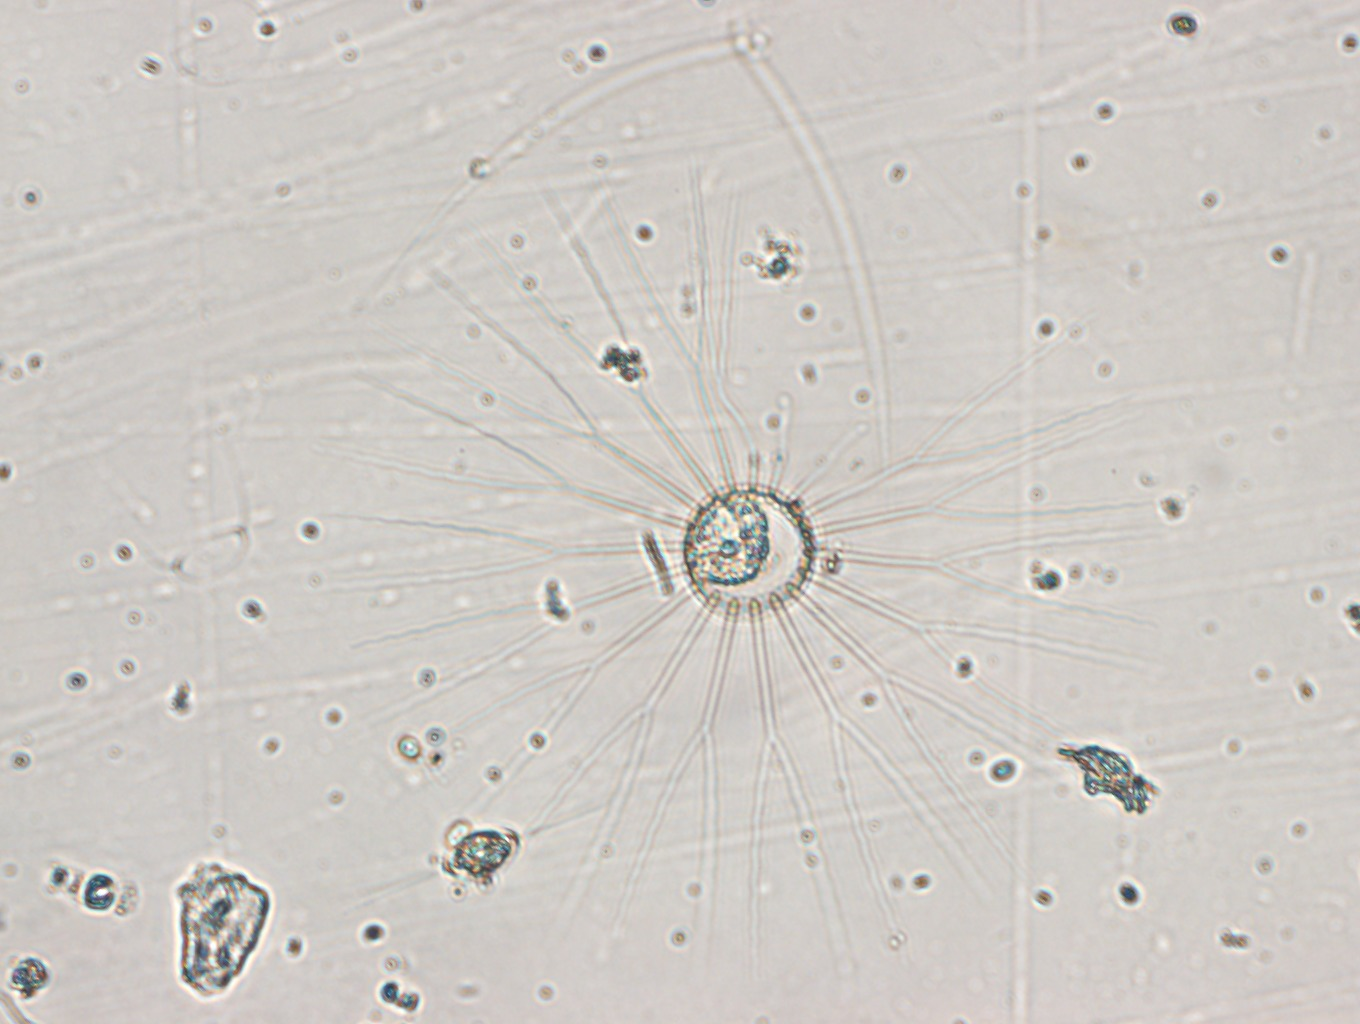bacteriastrum: (337, 156, 1180, 949)
